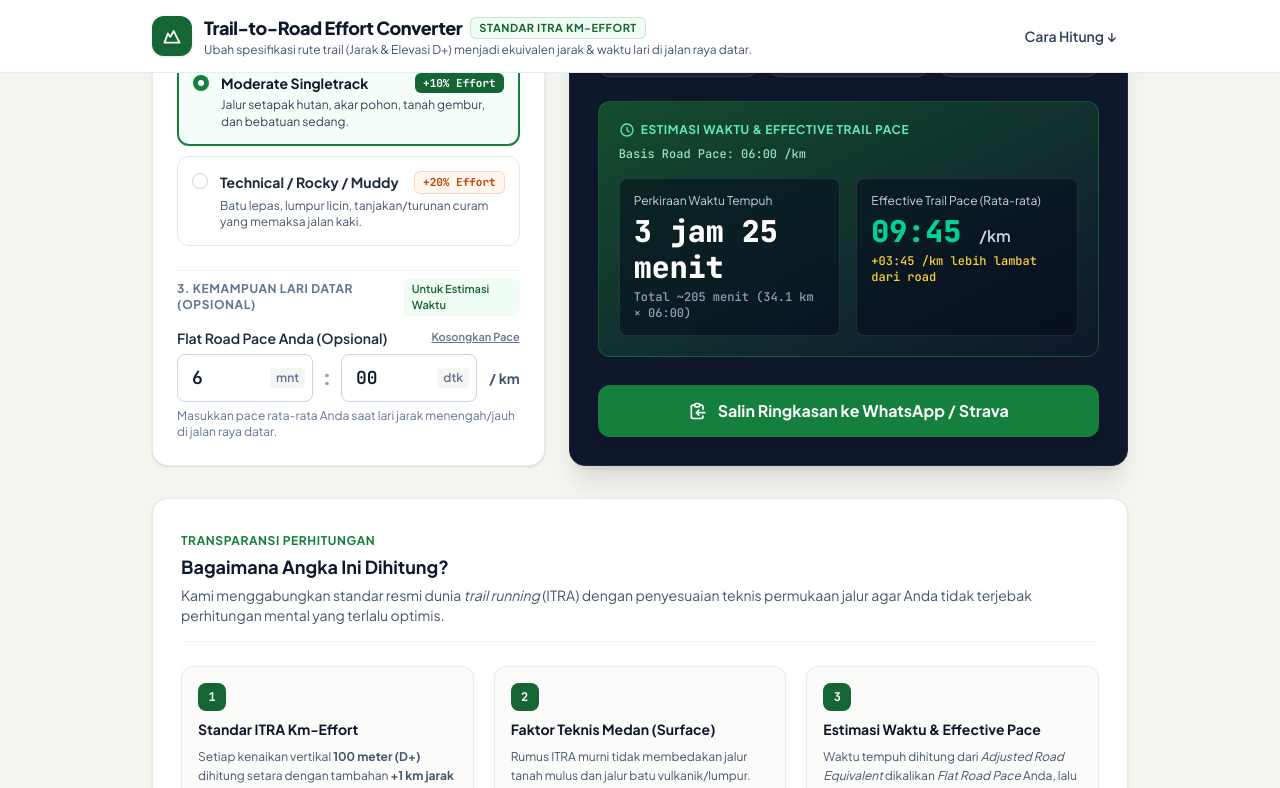
Test: App UI Integration — Reactive Calculator & System States › shows success feedback state when Clipboard API succeeds
This screenshot has width=1280, height=788.
(page scrolled)
Click the button "Salin Ringkasan ke WhatsApp / Strava" at (848,410), box left=598, top=384, right=1099, bottom=436
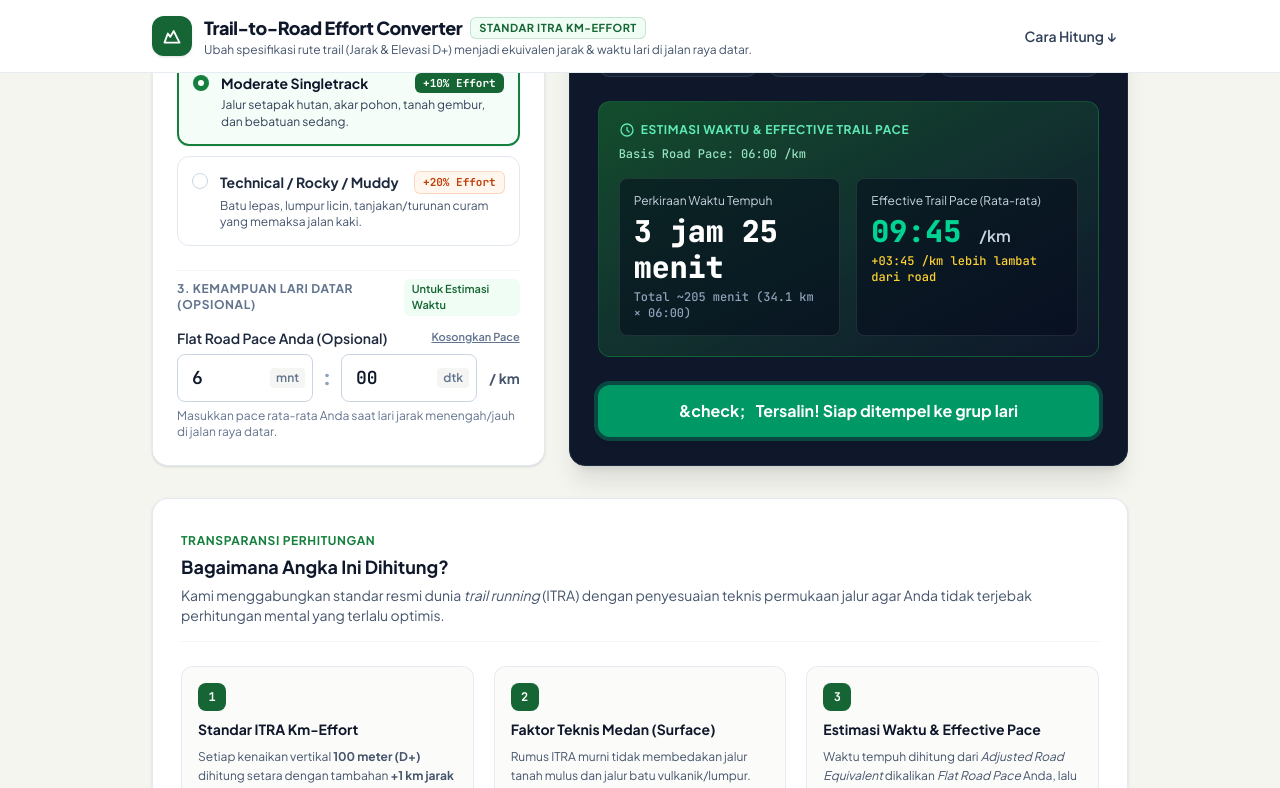
Check: the button "&check; Tersalin! Siap ditempel ke grup lari" is shown, box left=598, top=384, right=1099, bottom=436
